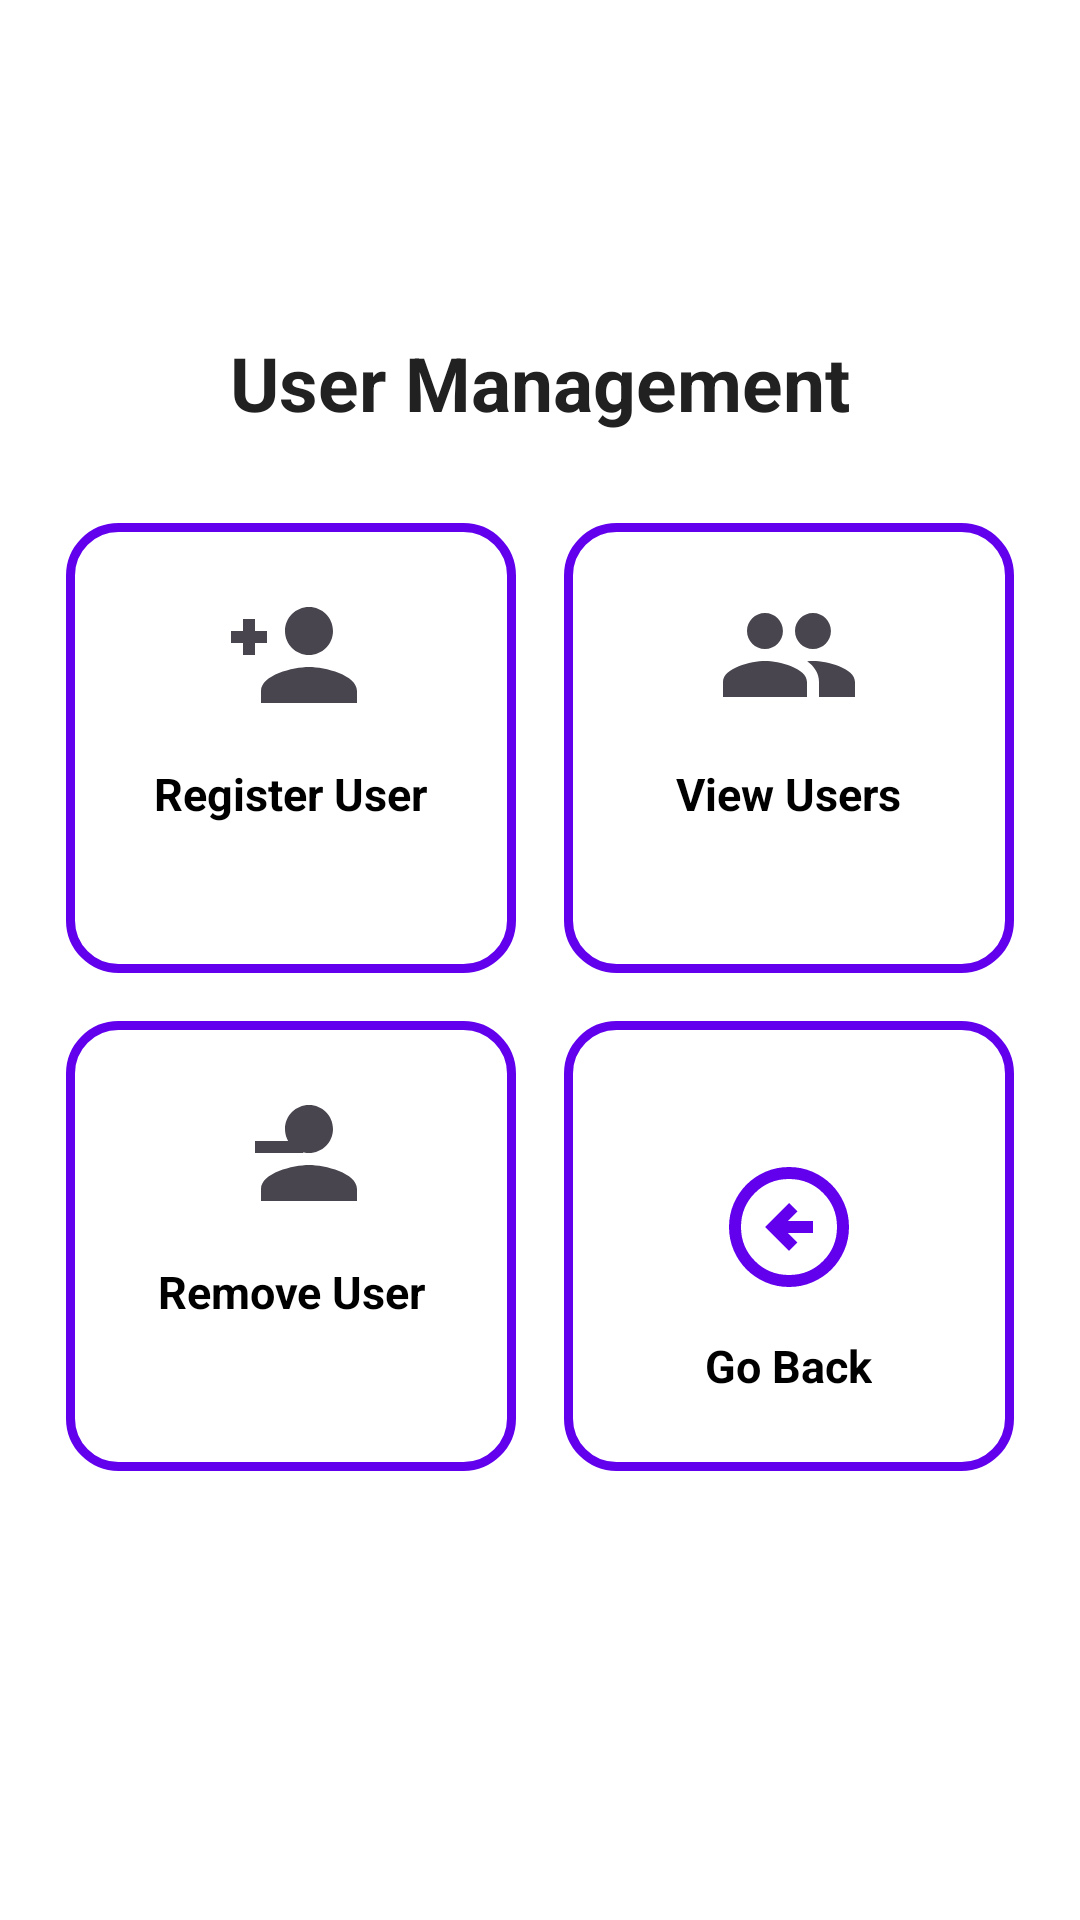

Icon click points for this 1080*1920 phone screenshot, format (x=x, y=y):
arrow circle left: (x=789, y=1227)
people: (x=789, y=655)
person add: (x=294, y=655)
person remove: (x=306, y=1153)
